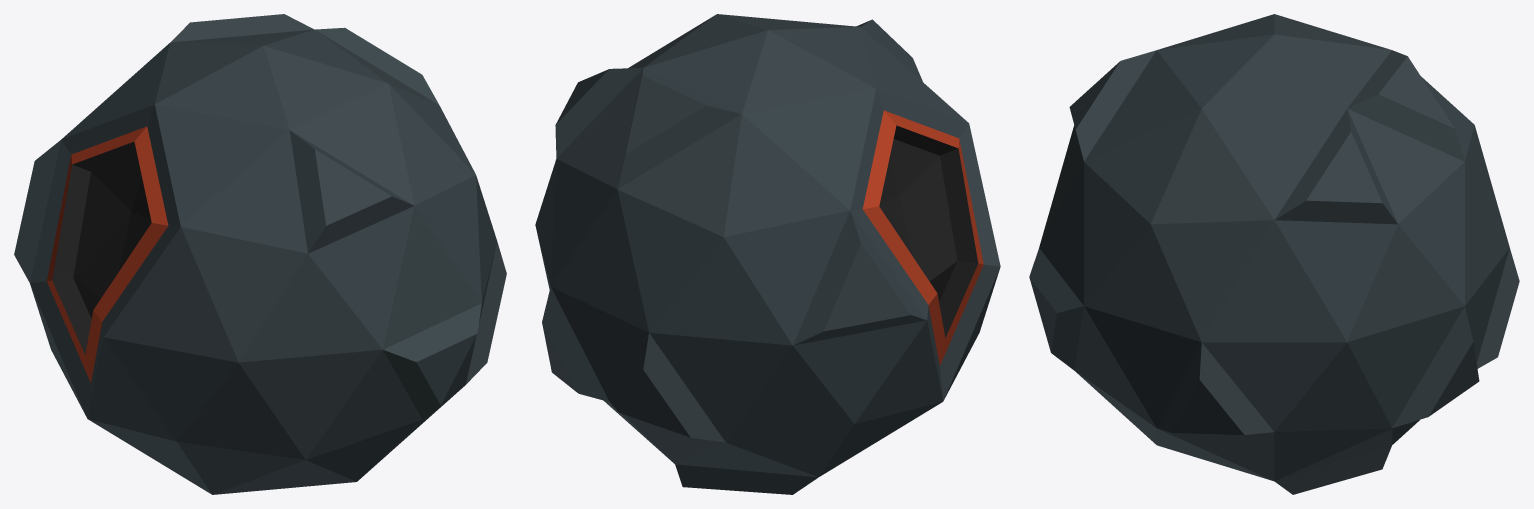
File: Orb.glb
The picture shows the model from 3 angles, left to right: view 1: azimuth 30°, elevation 25°; view 2: azimuth 150°, elevation 25°; view 3: azimuth 270°, elevation 25°; orthographic projection.
Visible parts, largest first — view 1: Orb; view 2: Orb; view 3: Orb.
Part boxes in pixels (box(x1,y1,x2,y2)): Orb: box(14, 14, 506, 494); Orb: box(535, 14, 1000, 494); Orb: box(1029, 14, 1519, 494).
Size of the model in its own units: 0.7772 by 0.8303 by 0.8335.
1 material, 1 textured.
